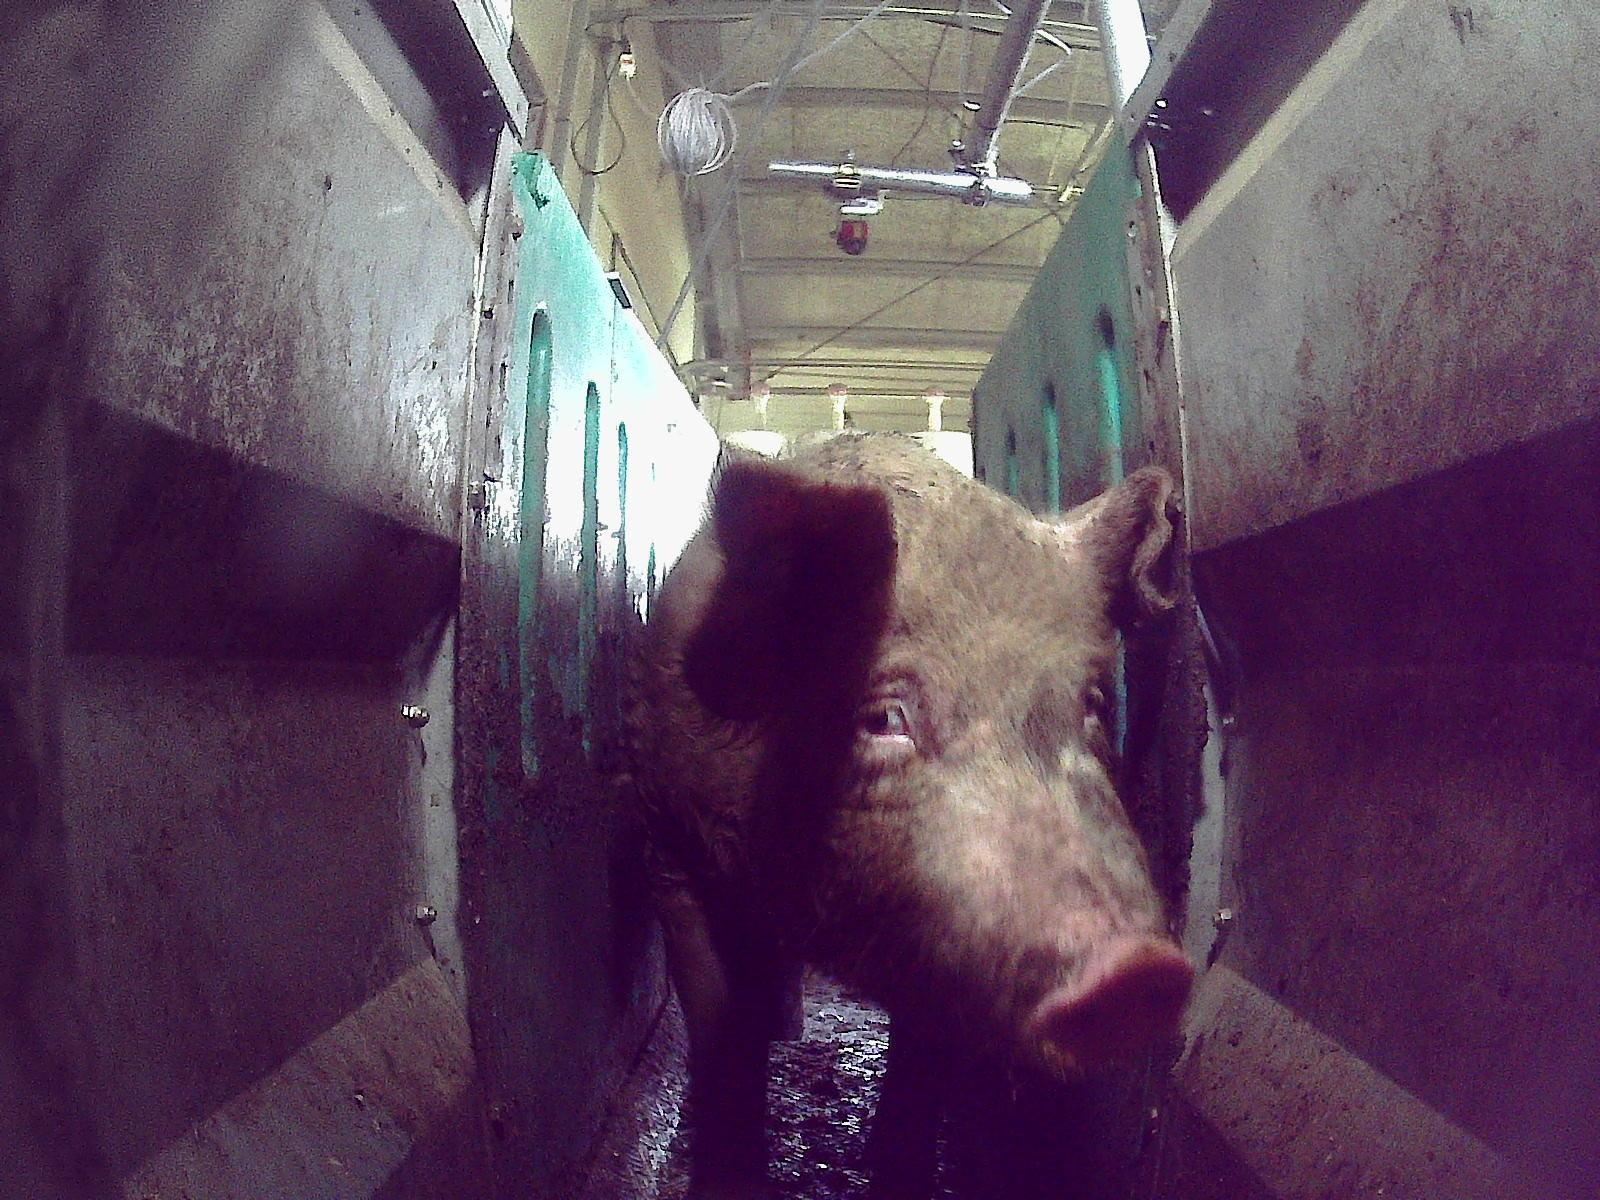Face: (728, 514, 1194, 1086)
